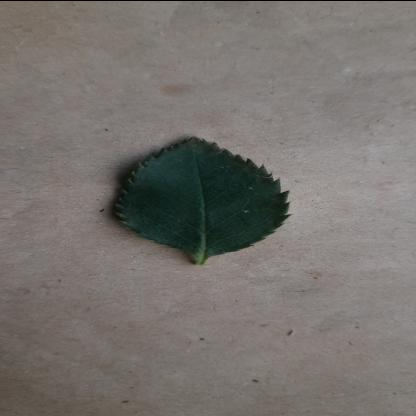normal: (114, 134, 292, 252)
